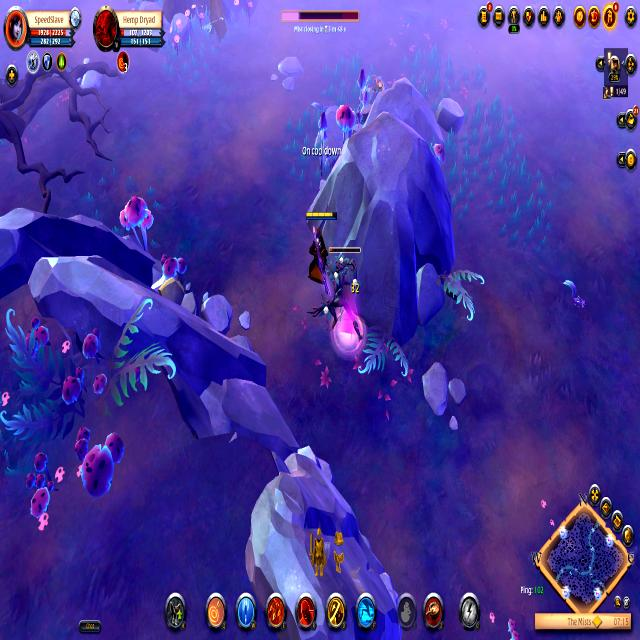ore: (308, 238, 372, 361)
red: (302, 205, 336, 288)
